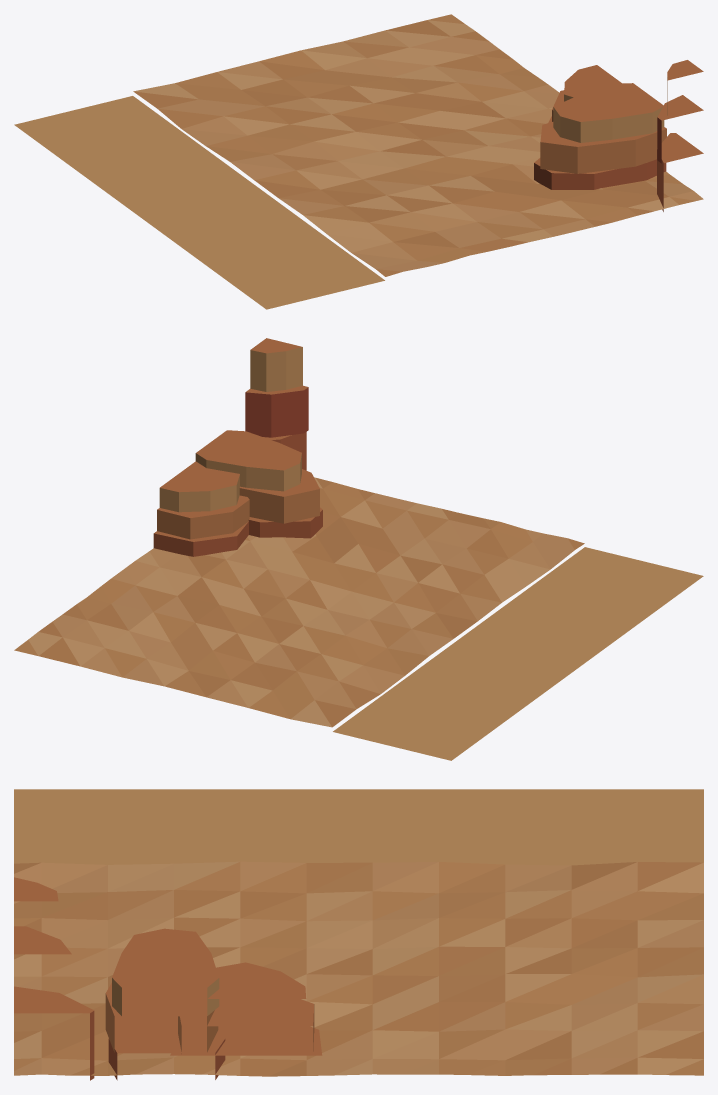
The picture shows the model from 3 angles, top to bottom: view 1: azimuth 30°, elevation 25°; view 2: azimuth 150°, elevation 25°; view 3: azimuth 270°, elevation 25°; orthographic projection. The views are drawn at different scales.
Visible parts, largest first — view 1: baked; view 2: baked; view 3: baked.
Part boxes in pixels (left/top/right/bottom): baked: left=14, top=14, right=703, bottom=309; baked: left=14, top=338, right=703, bottom=760; baked: left=14, top=789, right=703, bottom=1080.
Bounding box in the file's own units: 125 × 35.84 × 125.
